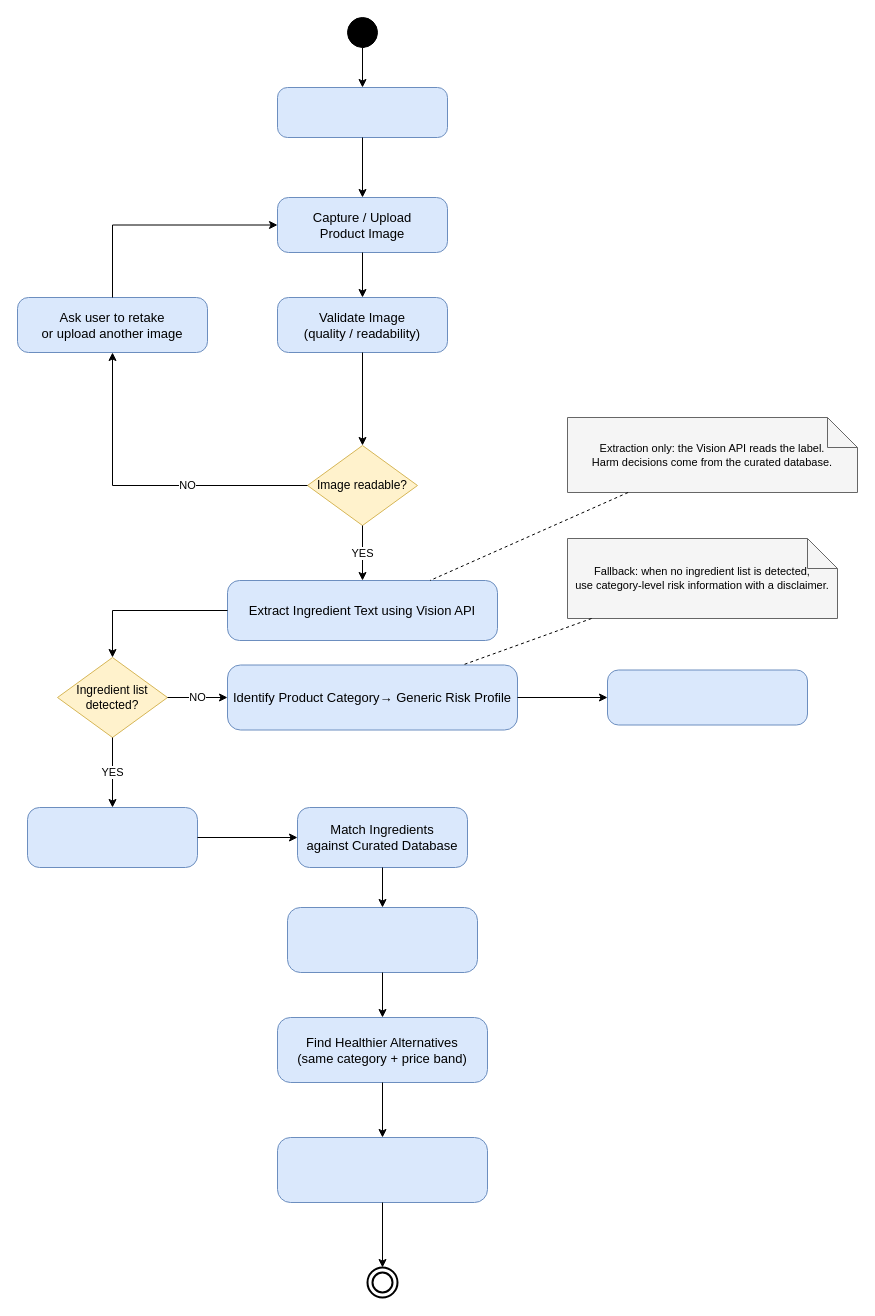
This 875x1316 diagram has some shape labels left out. The centre of each missing label's shape, as x and y in pixels:
Apply Harm Rules and Generate Risk Assessment: the point at 382,939
Display Results with Confidence / Risk / Alternatives: the point at 382,1169
Normalize Extracted Text and Resolve Aliases: the point at 112,837
Open Ingredient Scanner: the point at 362,112
Show estimated / not exact fallback result: the point at 707,697
